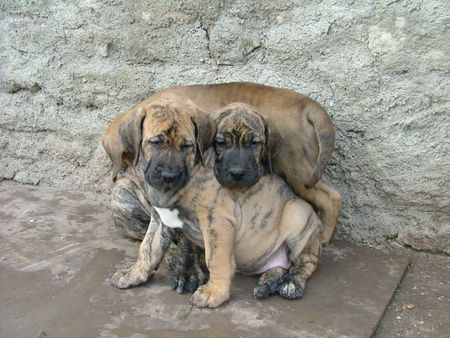fila_brasileiro: (109, 92, 322, 309), (100, 80, 341, 249), (108, 101, 282, 295)
